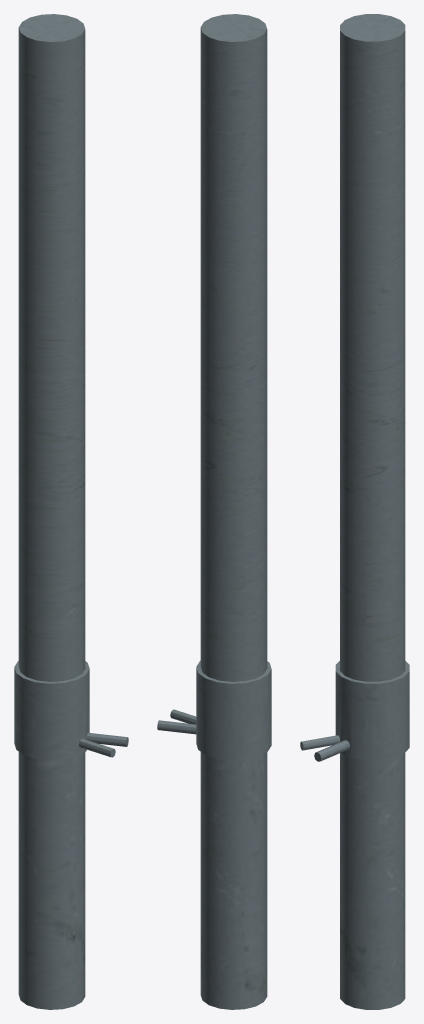
The model's file is FlagRod.FBX.
3 views of the same model, side by side, from view 1: azimuth 30°, elevation 25°; view 2: azimuth 210°, elevation 25°; view 3: azimuth 270°, elevation 25° (orthographic).
Parts seen in each view (by area): view 1: FlagRod; view 2: FlagRod; view 3: FlagRod.
Boxes of the visible parts, bbox=[...] form: FlagRod: bbox=[14, 14, 128, 1009]; FlagRod: bbox=[157, 14, 271, 1009]; FlagRod: bbox=[300, 14, 409, 1009].
Bounding box in the file's own units: 6.41 × 7.34 × 71.56.
